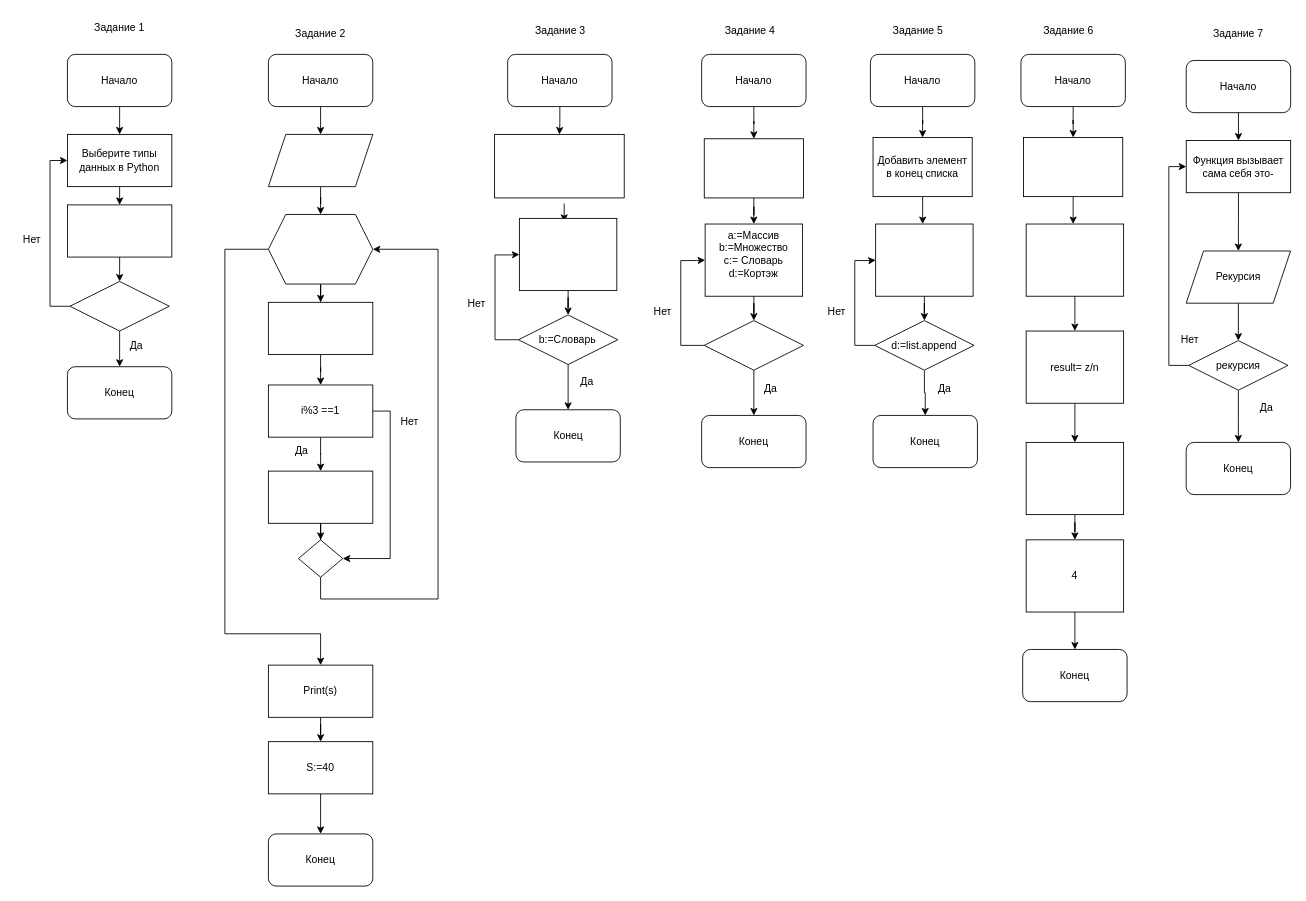
Image size: 1306x901. Some labels were removed from this diagram. Here are the shapes that lost their labels. From the top down, the centre of each, then its label:
(x=320, y=160): i = 2 s = 1
(x=559, y=166): Неупорядоченные коллекции произвольных объектов с доступом по ключу
(x=753, y=168): Неизменяемый список
(x=1073, y=167): z, *param=input
(x=119, y=230): a:=none b:=variable c:=int d:=double
(x=320, y=249): i < 10
(x=568, y=254): a:=Списо b:= Словарь c:= Множество d:= Кортэж
(x=924, y=259): a:=list.remove b:= list.insert c:= list.extend d:= list.append
(x=1074, y=259): n=len(param)
(x=119, y=306): a:=none c:=int
(x=320, y=328): i = i + 2
(x=753, y=345): d:= Кортэж
(x=320, y=496): s*=i
(x=1074, y=478): print result
